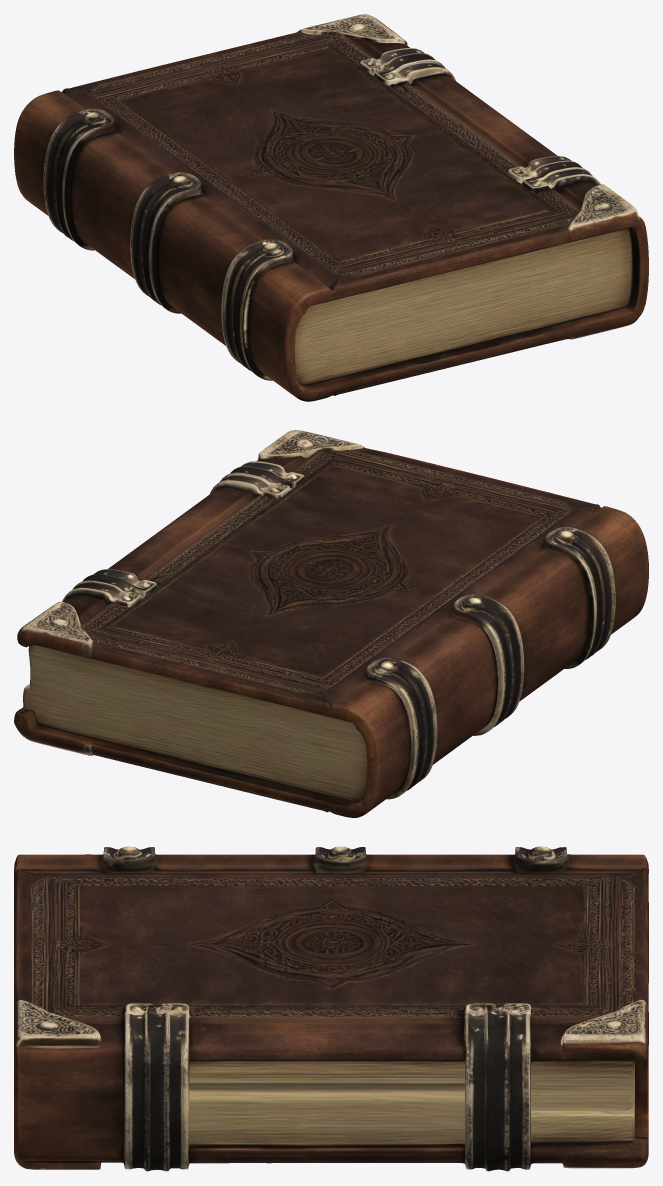
File: pixellabs-spell-book-3508.glb
The picture shows the model from 3 angles, top to bottom: view 1: azimuth 30°, elevation 25°; view 2: azimuth 150°, elevation 25°; view 3: azimuth 270°, elevation 25°; orthographic projection. The views are drawn at different scales.
Parts seen in each view (by area): view 1: material; view 2: material; view 3: material.
Part boxes in pixels (bbox=[...]): material: bbox=[14, 14, 648, 401]; material: bbox=[14, 430, 648, 817]; material: bbox=[14, 846, 648, 1171].
Bounding box in the file's own units: 0.759 × 0.2524 × 0.955.
1 material, 1 textured.
